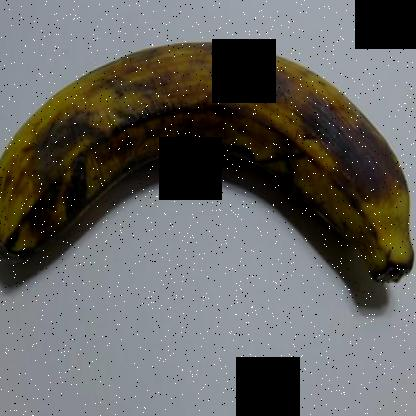overripe: (1, 23, 415, 299)
